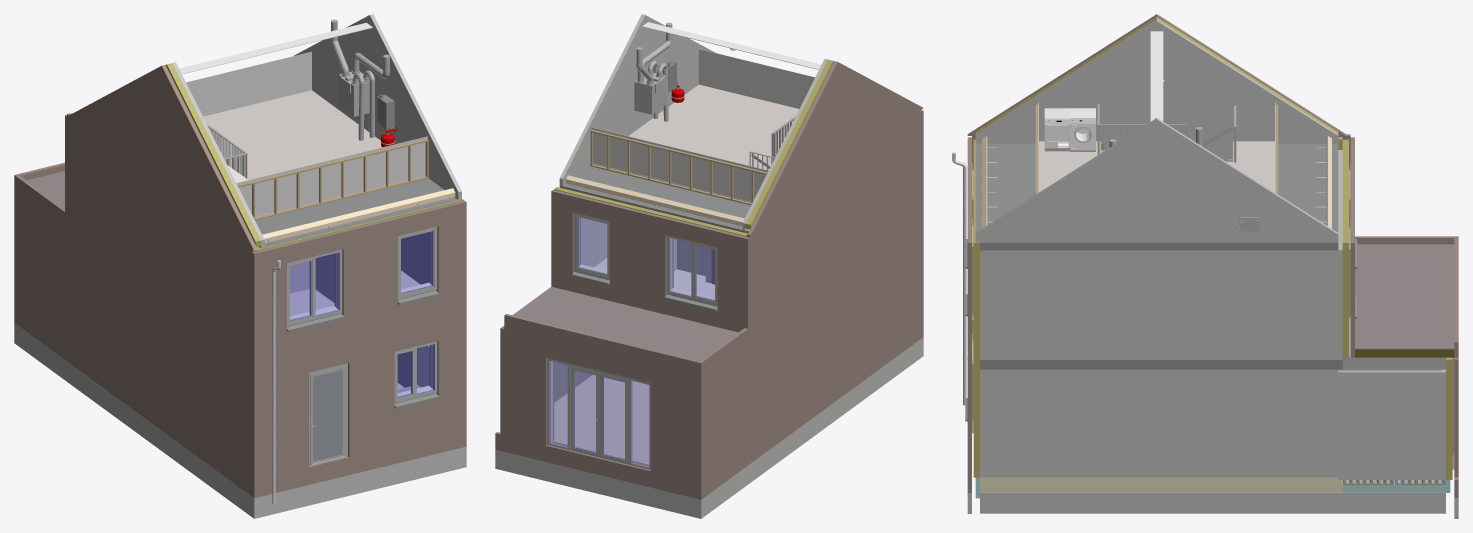
3 views of the same model, side by side, from view 1: azimuth 30°, elevation 25°; view 2: azimuth 150°, elevation 25°; view 3: azimuth 270°, elevation 25° (orthographic). The views are drawn at different scales.
Parts seen in each view (by area): view 1: 332343421_metselwerk_oranje_100, 332240221_metselwerk_oranje_100, 332240121_metselwerk_oranje_100, 332343321_metselwerk_oranje_100, 332369521_metselwerk_oranje_100, 333314543_zandcementvloer_70, 3333126met_beplating, 332360122_kalkzandsteen_100, 332433321_metselwerk_oranje_100, 3333127met_beplating, 332255321_kalkzandsteen_100, 332255021_kalkzandsteen_100 (+27 smaller); view 2: 332343421_metselwerk_oranje_100, 332240221_metselwerk_oranje_100, 332343521_metselwerk_oranje_100, 332428721_metselwerk_oranje_100, 332369521_metselwerk_oranje_100, 333314543_zandcementvloer_70, 333377847_Grindlaag_30, 3333127met_beplating, 332360122_kalkzandsteen_100, 332433321_metselwerk_oranje_100, 332433921_kalkzandsteen_100, 3333126met_beplating (+26 smaller); view 3: 332342821_kalkzandsteen_100, 332239521_kalkzandsteen_100, 332360122_kalkzandsteen_100, 332358522_kalkzandsteen_100, 332254721_kalkzandsteen_100, 333453523_kanaalplaatvloer_200, 333377847_Grindlaag_30, 332255121_kalkzandsteen_100, 333394723_kanaalplaatvloer_260, 332390023_breedplaatvloer_plaatdikte=50_200, 333314543_zandcementvloer_70, 332436221_kalkzandsteen_100 (+23 smaller).
Boxes of the visible parts, box(x1,y1,x2,y2) form: 332343421_metselwerk_oranje_100: box(67, 113, 255, 363); 332240221_metselwerk_oranje_100: box(67, 229, 252, 478); 332240121_metselwerk_oranje_100: box(252, 314, 466, 480); 332343321_metselwerk_oranje_100: box(252, 200, 466, 365); 332369521_metselwerk_oranje_100: box(69, 65, 257, 250); 333314543_zandcementvloer_70: box(203, 90, 425, 217); 3333126met_beplating: box(236, 136, 428, 220); 332360122_kalkzandsteen_100: box(294, 14, 461, 199); 332433321_metselwerk_oranje_100: box(16, 192, 66, 343); 3333127met_beplating: box(186, 51, 311, 116); 332255321_kalkzandsteen_100: box(252, 446, 466, 518); 332255021_kalkzandsteen_100: box(67, 361, 252, 516); 332343421_metselwerk_oranje_100: box(746, 110, 921, 340); 332240221_metselwerk_oranje_100: box(750, 216, 921, 447); 332343521_metselwerk_oranje_100: box(551, 190, 749, 341); 332428721_metselwerk_oranje_100: box(508, 330, 702, 483); 332369521_metselwerk_oranje_100: box(748, 61, 923, 233); 333314543_zandcementvloer_70: box(593, 84, 799, 202); 333377847_Grindlaag_30: box(512, 287, 738, 360); 3333127met_beplating: box(590, 127, 768, 205); 332360122_kalkzandsteen_100: box(559, 14, 715, 186); 332433321_metselwerk_oranje_100: box(703, 342, 749, 481); 332433921_kalkzandsteen_100: box(495, 449, 702, 518); 3333126met_beplating: box(698, 49, 814, 108); 332342821_kalkzandsteen_100: box(984, 250, 1338, 359); 332239521_kalkzandsteen_100: box(984, 369, 1338, 477); 332360122_kalkzandsteen_100: box(975, 118, 1338, 242); 332358522_kalkzandsteen_100: box(975, 19, 1338, 143); 332254721_kalkzandsteen_100: box(1338, 370, 1441, 479); 333453523_kanaalplaatvloer_200: box(975, 144, 1338, 250); 333377847_Grindlaag_30: box(1355, 244, 1454, 349); 332255121_kalkzandsteen_100: box(984, 492, 1338, 513); 333394723_kanaalplaatvloer_260: box(980, 477, 1342, 492); 332390023_breedplaatvloer_plaatdikte=50_200: box(980, 360, 1342, 369); 333314543_zandcementvloer_70: box(1039, 141, 1274, 192); 332436221_kalkzandsteen_100: box(1338, 492, 1441, 513).
Size of the model in its own units: 6.11 by 10.08 by 11.74.
